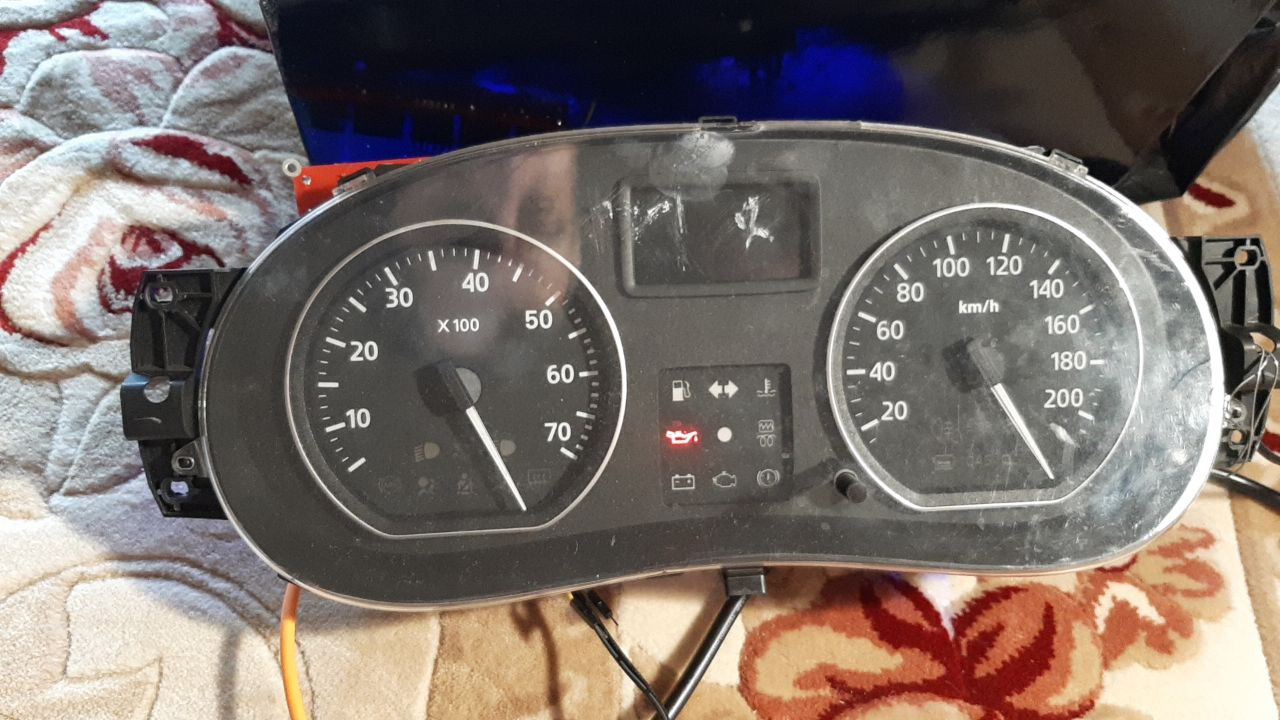oil: (661, 421, 702, 448)
